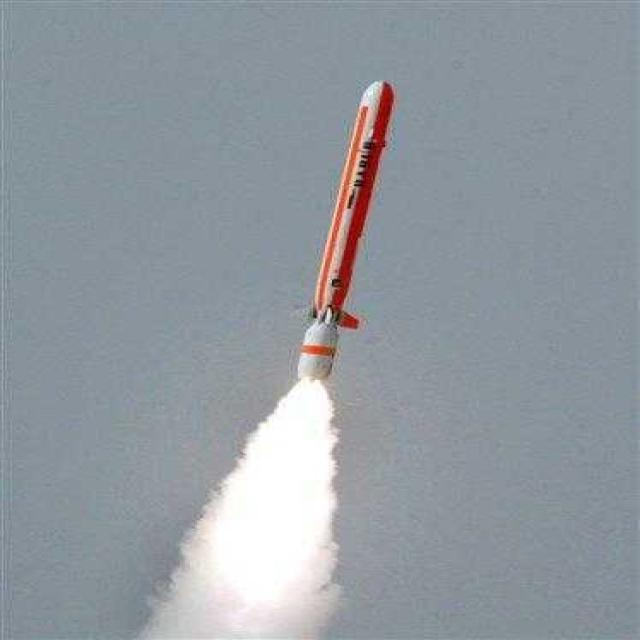missile: (295, 84, 394, 386)
